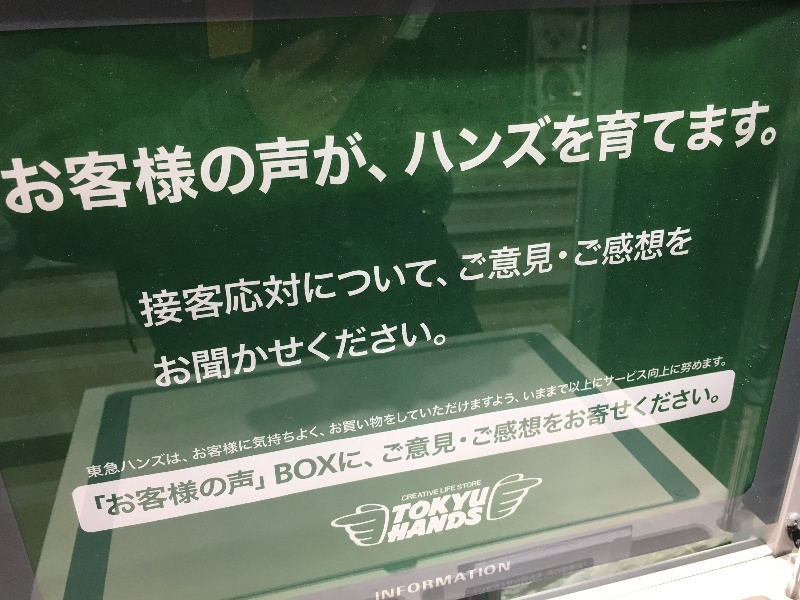text: (1, 131, 16, 217), (17, 131, 32, 217), (33, 131, 48, 217), (49, 131, 64, 217), (65, 131, 80, 217), (81, 131, 96, 217), (97, 131, 112, 217), (113, 131, 128, 217), (129, 131, 144, 217), (145, 131, 160, 217), (161, 131, 176, 217), (177, 131, 192, 217), (193, 131, 208, 217), (209, 131, 224, 217), (225, 131, 240, 217), (241, 131, 256, 217), (257, 131, 272, 217), (273, 131, 288, 217), (289, 131, 304, 217), (305, 131, 320, 217), (321, 131, 336, 217), (337, 131, 352, 217), (353, 131, 368, 217), (369, 131, 384, 217), (417, 98, 432, 180), (433, 98, 448, 180), (449, 98, 464, 180), (465, 98, 480, 180), (481, 98, 496, 180), (497, 98, 512, 180), (513, 98, 528, 180), (529, 98, 544, 180), (545, 98, 560, 180), (561, 98, 576, 180), (577, 98, 592, 180), (593, 98, 608, 180), (609, 98, 624, 180), (625, 98, 640, 180), (641, 98, 656, 180), (657, 98, 672, 180), (673, 98, 688, 180), (689, 98, 704, 180), (705, 98, 720, 180), (721, 98, 736, 180), (737, 98, 752, 180), (753, 98, 768, 180), (161, 316, 176, 392), (177, 316, 192, 392), (193, 316, 208, 392), (209, 316, 224, 392), (225, 316, 240, 392), (241, 316, 256, 392), (257, 316, 272, 392), (273, 316, 288, 392), (289, 316, 304, 392), (305, 316, 320, 392), (321, 316, 336, 392), (337, 316, 352, 392), (353, 316, 368, 392), (369, 316, 384, 392), (385, 316, 400, 392), (401, 316, 416, 392), (417, 316, 432, 392), (145, 258, 160, 331), (161, 258, 176, 331), (177, 258, 192, 331), (193, 258, 208, 331), (209, 258, 224, 331), (225, 258, 240, 331), (241, 258, 256, 331), (257, 258, 272, 331), (273, 258, 288, 331), (289, 258, 304, 331), (305, 258, 320, 331), (321, 258, 336, 331), (337, 258, 352, 331), (353, 258, 368, 331), (369, 258, 384, 331), (385, 258, 400, 331), (401, 258, 416, 331), (417, 258, 432, 331), (433, 258, 448, 331), (433, 316, 447, 392), (481, 384, 496, 449), (497, 384, 512, 449), (513, 384, 528, 449), (529, 384, 544, 449), (545, 384, 560, 449), (561, 384, 576, 449), (577, 384, 592, 449), (593, 384, 608, 449), (609, 384, 624, 449), (625, 384, 640, 449), (641, 384, 656, 449), (657, 384, 672, 449), (673, 384, 688, 449), (689, 384, 704, 449), (705, 384, 719, 449), (97, 467, 112, 522), (113, 467, 128, 522), (129, 467, 144, 522), (145, 467, 160, 522), (161, 467, 176, 522), (177, 467, 192, 522), (193, 467, 208, 522), (209, 467, 224, 522), (225, 467, 240, 522), (241, 467, 256, 522), (465, 237, 480, 285), (481, 237, 496, 285), (497, 237, 512, 285), (513, 237, 528, 285), (529, 237, 544, 285), (545, 237, 560, 285), (529, 354, 544, 402), (545, 354, 560, 402), (561, 354, 576, 402), (577, 354, 592, 402), (593, 354, 608, 402), (609, 354, 624, 402), (625, 354, 640, 402), (641, 354, 656, 402), (657, 354, 672, 402), (673, 354, 688, 402), (689, 354, 704, 402), (705, 354, 720, 402), (337, 392, 352, 436), (353, 392, 368, 436), (369, 392, 384, 436), (385, 392, 400, 436), (401, 392, 416, 436), (417, 392, 432, 436), (433, 392, 448, 436), (449, 392, 464, 436), (465, 392, 480, 436), (481, 392, 496, 436), (497, 392, 512, 436), (577, 225, 592, 267), (593, 225, 608, 267), (609, 225, 624, 267), (625, 225, 640, 267), (641, 225, 656, 267), (657, 225, 672, 267), (673, 225, 688, 267), (769, 98, 776, 180), (385, 562, 400, 600), (401, 562, 416, 600), (417, 562, 432, 600), (433, 562, 448, 600), (449, 562, 464, 600), (465, 562, 480, 600), (481, 562, 496, 600), (401, 487, 416, 525), (417, 487, 432, 525), (433, 487, 448, 525), (449, 487, 464, 525), (465, 487, 480, 525), (289, 447, 304, 485), (305, 447, 320, 485), (321, 447, 336, 485), (337, 447, 352, 485), (353, 447, 368, 485), (401, 507, 416, 543), (417, 507, 432, 543), (433, 507, 448, 543), (449, 507, 464, 543), (465, 507, 480, 543), (193, 425, 208, 461), (209, 425, 224, 461), (225, 425, 240, 461), (241, 425, 256, 461), (257, 425, 272, 461), (273, 425, 288, 461), (289, 425, 304, 461), (305, 425, 320, 461), (481, 561, 496, 596), (497, 561, 512, 596), (513, 561, 528, 596), (529, 561, 544, 596), (545, 561, 560, 596), (561, 561, 576, 596), (385, 430, 400, 465), (401, 430, 416, 465), (417, 430, 432, 465), (433, 430, 448, 465), (449, 430, 464, 465), (257, 467, 266, 522), (497, 562, 510, 600), (275, 447, 288, 485), (410, 98, 416, 180), (154, 316, 160, 392), (138, 258, 144, 331), (97, 451, 112, 479), (113, 451, 128, 479), (129, 451, 144, 479), (145, 451, 160, 479), (161, 451, 176, 479), (389, 507, 400, 543), (474, 384, 480, 449), (385, 131, 389, 217), (481, 487, 490, 525), (577, 561, 586, 596), (177, 451, 188, 479), (329, 392, 336, 436), (376, 562, 384, 600), (561, 237, 567, 285), (86, 451, 96, 479), (393, 487, 400, 525), (513, 392, 519, 436), (459, 237, 464, 285), (523, 354, 528, 402), (721, 354, 725, 402), (417, 489, 432, 501), (475, 561, 480, 596), (402, 489, 416, 501), (465, 480, 481, 490), (369, 447, 373, 485), (689, 225, 692, 267), (94, 467, 96, 522), (321, 425, 324, 461), (481, 507, 483, 543), (433, 489, 439, 501), (457, 480, 464, 490), (465, 430, 467, 465), (441, 485, 448, 493), (449, 485, 456, 493)
